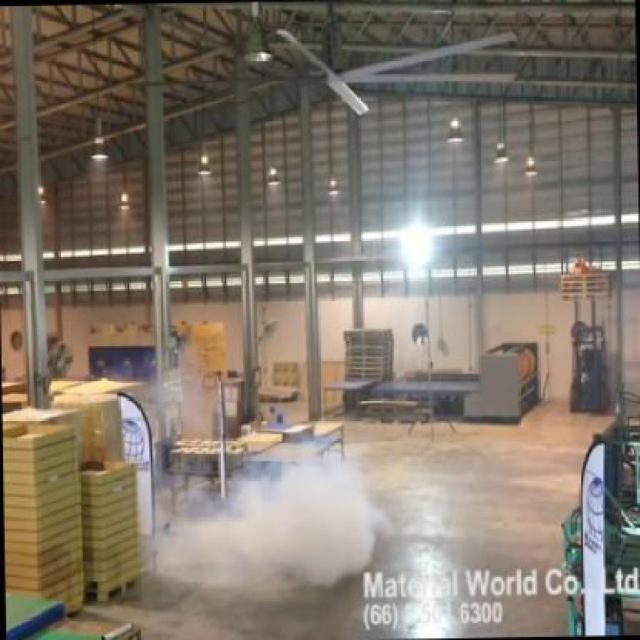fire: (168, 459, 384, 592)
